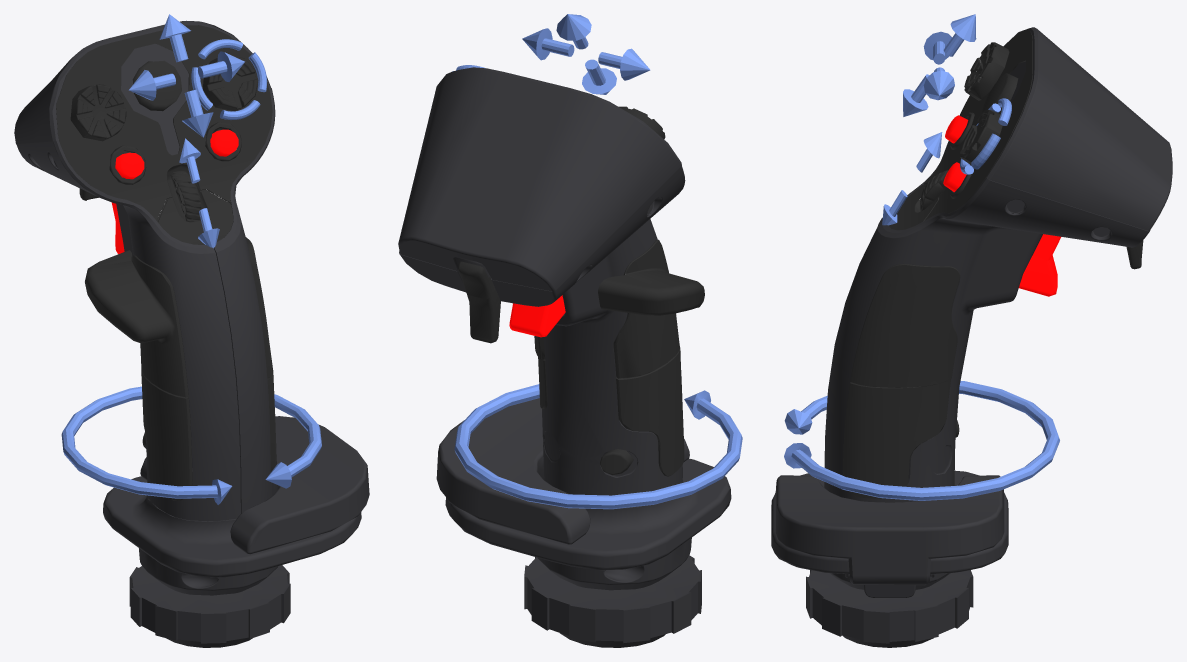
File: solr.glb
3 views of the same model, side by side, from view 1: azimuth 30°, elevation 25°; view 2: azimuth 150°, elevation 25°; view 3: azimuth 270°, elevation 25° (orthographic). The views are drawn at different scales.
Visible parts, largest first — view 1: DefaultMaterialContainer, DefaultMaterialContainer1, group23_group22_pCylinder8, ROCKER, MS_LR, MS_UD, btn_6, A4, Btn_8, btn_12, btn_16, btn_11 (+4 smaller); view 2: DefaultMaterialContainer, DefaultMaterialContainer1, group23_group22_pCylinder8, ROCKER, MS_LR, MS_UD, btn_2, btn_4, btn_3, btn_5; view 3: DefaultMaterialContainer, DefaultMaterialContainer1, group23_group22_pCylinder8, ROCKER, MS_UD, MS_LR, btn_2, A4, btn_6, btn_10.
Boxes of the visible parts, x1,y1,x2,y2 form: DefaultMaterialContainer: (14,20,369,595); DefaultMaterialContainer1: (56,25,276,500); group23_group22_pCylinder8: (129,565,290,647); ROCKER: (61,386,321,504); MS_LR: (129,51,244,100); MS_UD: (159,14,213,137); btn_6: (132,60,181,111); A4: (179,138,219,248); Btn_8: (70,97,95,137); btn_12: (115,152,144,179); btn_16: (210,129,238,156); btn_11: (83,116,122,141); DefaultMaterialContainer: (398,67,731,590); DefaultMaterialContainer1: (534,239,704,476); group23_group22_pCylinder8: (524,555,701,647); ROCKER: (454,384,742,509); MS_LR: (522,28,650,80); MS_UD: (556,14,616,94); btn_2: (509,295,565,337); btn_4: (467,289,500,343); btn_3: (458,261,494,299); btn_5: (600,449,633,475); DefaultMaterialContainer: (771,27,1172,597); DefaultMaterialContainer1: (842,30,1032,498); group23_group22_pCylinder8: (806,570,973,647); ROCKER: (784,381,1059,500); MS_UD: (903,14,976,116); MS_LR: (923,31,954,100); btn_2: (1019,254,1057,296); A4: (882,132,942,225); btn_6: (982,73,1018,114); btn_10: (970,61,1004,99).
Bounding box in the file's own units: 8.55 × 19 × 11.33.
